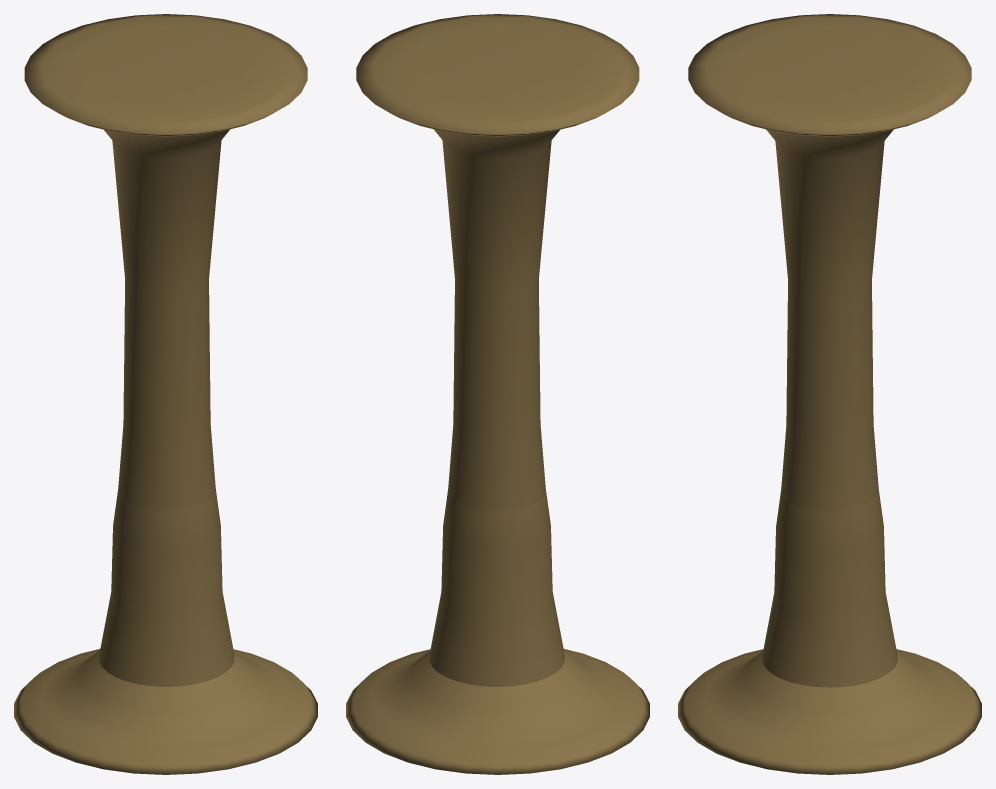
File: lamp_hp.fbx
3 renders of one model, left to right at view 1: azimuth 30°, elevation 25°; view 2: azimuth 150°, elevation 25°; view 3: azimuth 270°, elevation 25°, orthographic.
Visible parts, largest first — view 1: tableLamp_hp; view 2: tableLamp_hp; view 3: tableLamp_hp.
Part boxes in pixels (<box>): tableLamp_hp: <box>14,14,317,774</box>; tableLamp_hp: <box>346,14,649,774</box>; tableLamp_hp: <box>678,14,981,774</box>.
Size of the model in its own units: 0.0855 by 0.2 by 0.085.
